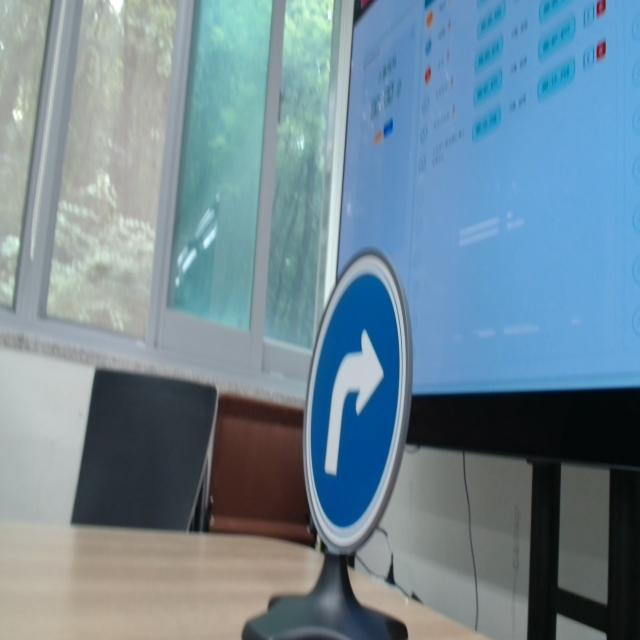right_dierection: (301, 248, 414, 552)
